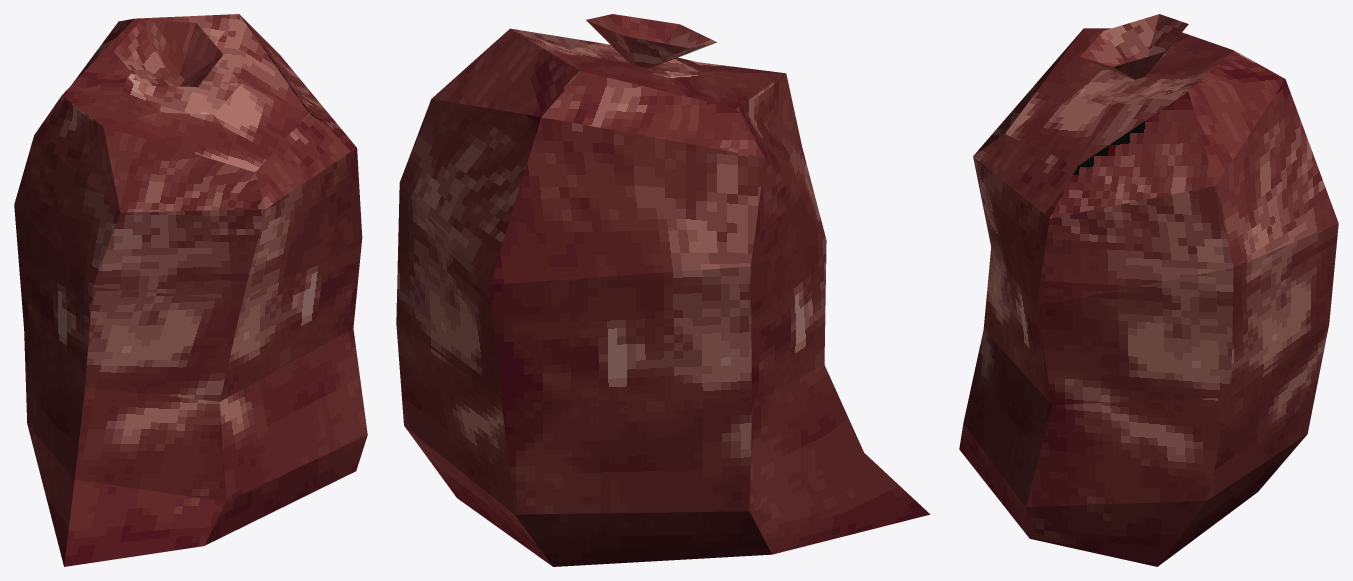
File: trashbag_2_red.glb
3 views of the same model, side by side, from view 1: azimuth 30°, elevation 25°; view 2: azimuth 150°, elevation 25°; view 3: azimuth 270°, elevation 25° (orthographic). The views are drawn at different scales.
Visible parts, largest first — view 1: trashbag_2_red; view 2: trashbag_2_red; view 3: trashbag_2_red.
Part boxes in pixels (bbox=[...]): trashbag_2_red: bbox=[14, 14, 367, 566]; trashbag_2_red: bbox=[396, 14, 930, 566]; trashbag_2_red: bbox=[959, 14, 1338, 566].
Size of the model in its own units: 0.8555 by 1.04 by 0.7744.
Materials: 1 (1 with a texture image).
